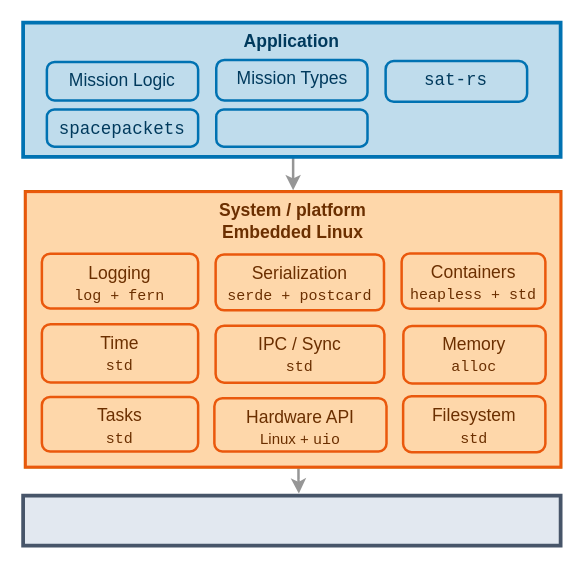
This 584x570 diagram has some shape labels left out. The shapes that lost their labels are listed below. From the top down, each one's centre as x and y in pixels, then its label:
At point 291,127: "cfdp".
At point 291,520: "Hardware".
